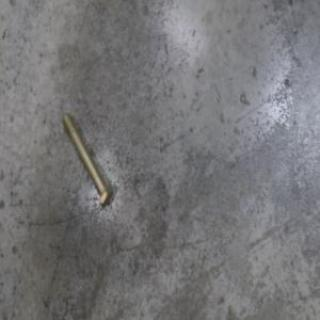Bolttrack_idkeyframe: (60, 109, 113, 209)
